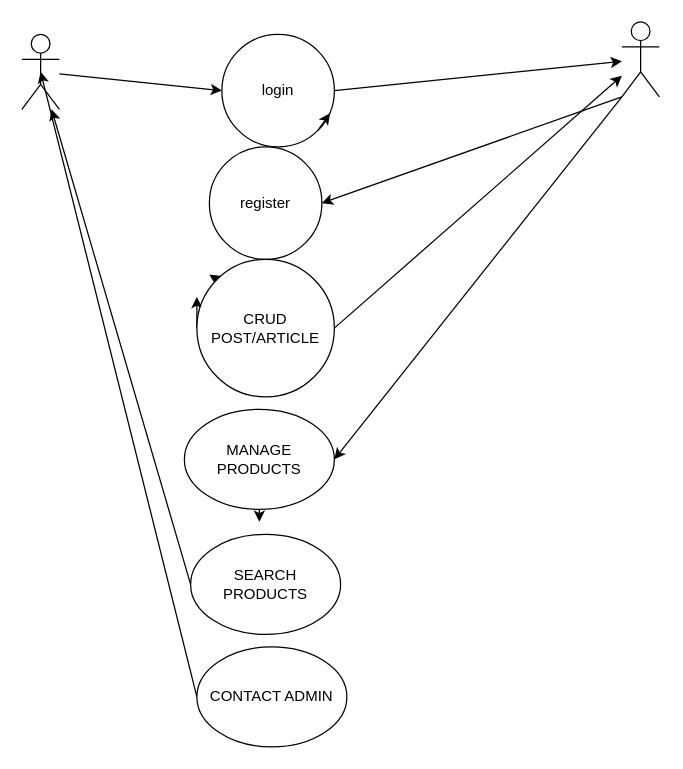
Some shapes in this 683 by 769 pixel diagram are drawn without their labels. The shapes that lost their labels are listed below. From the top down, each one's centre as x and y in pixels, then its label:
the point at 40,71: user
the point at 640,59: admin
